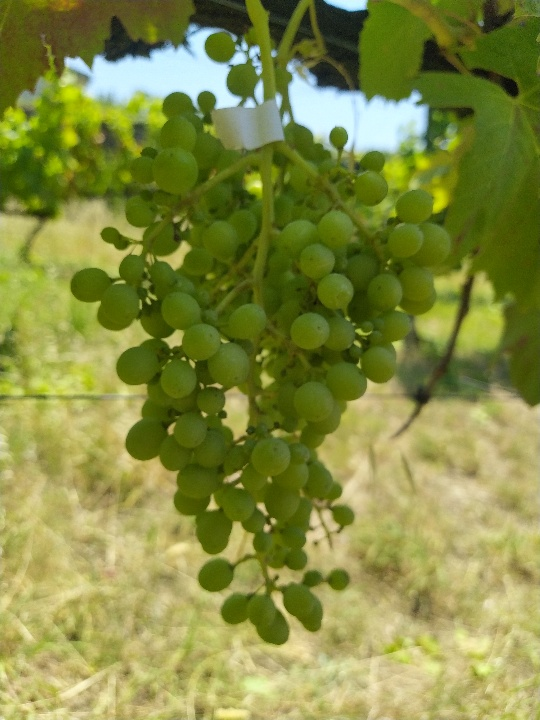grape: (67, 87, 452, 646)
